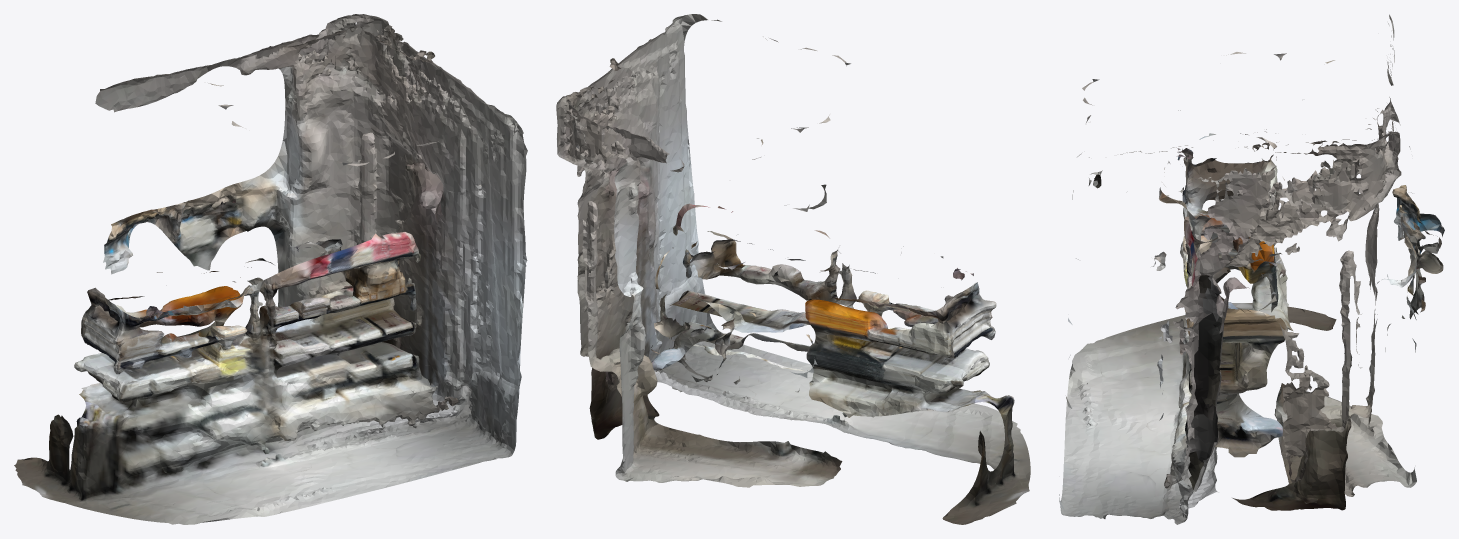
3 renders of one model, left to right at view 1: azimuth 30°, elevation 25°; view 2: azimuth 150°, elevation 25°; view 3: azimuth 270°, elevation 25°, orthographic. The views are drawn at different scales.
Size of the model in its own units: 4.1 by 3.25 by 2.96.
1 material, 1 textured.
